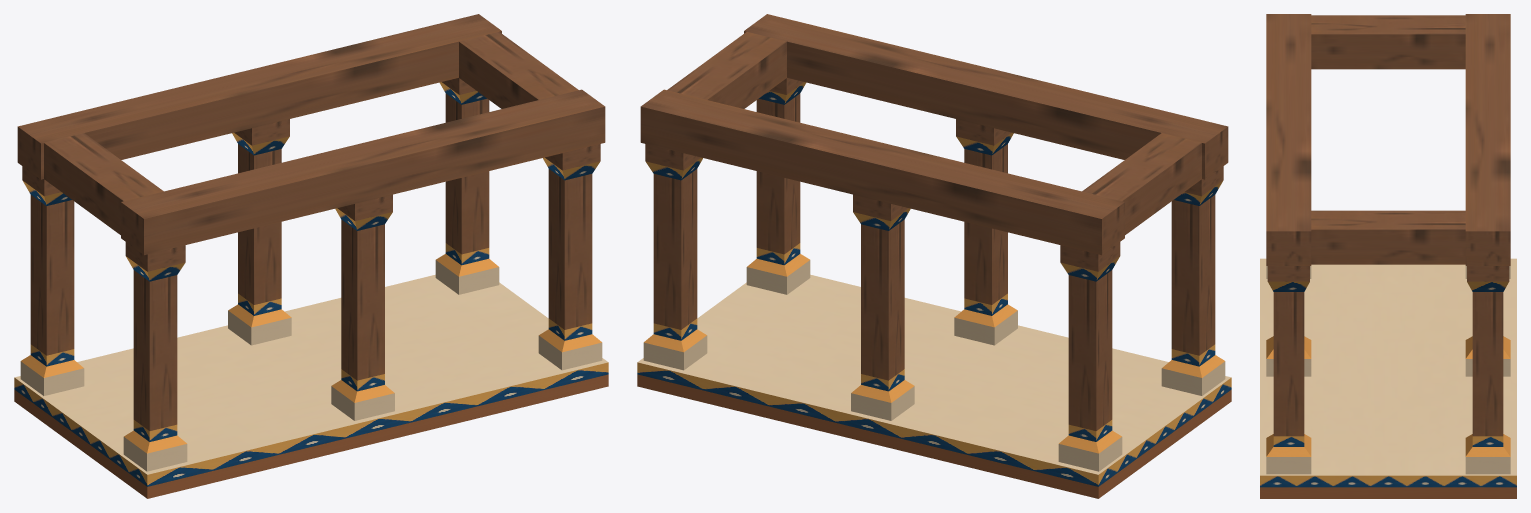
The model's file is rc_wa_veranda_section_8m.glb.
3 views of the same model, side by side, from view 1: azimuth 30°, elevation 25°; view 2: azimuth 150°, elevation 25°; view 3: azimuth 270°, elevation 25° (orthographic). The views are drawn at different scales.
Parts seen in each view (by area): view 1: SM_RC_WA_VerandaSection_8m; view 2: SM_RC_WA_VerandaSection_8m; view 3: SM_RC_WA_VerandaSection_8m.
Part boxes in pixels (x1,y1,x2,y2): SM_RC_WA_VerandaSection_8m: [14, 14, 608, 498]; SM_RC_WA_VerandaSection_8m: [637, 14, 1231, 498]; SM_RC_WA_VerandaSection_8m: [1260, 14, 1516, 498].
Size of the model in its own units: 8 by 4.6 by 4.
1 material, 1 textured.
